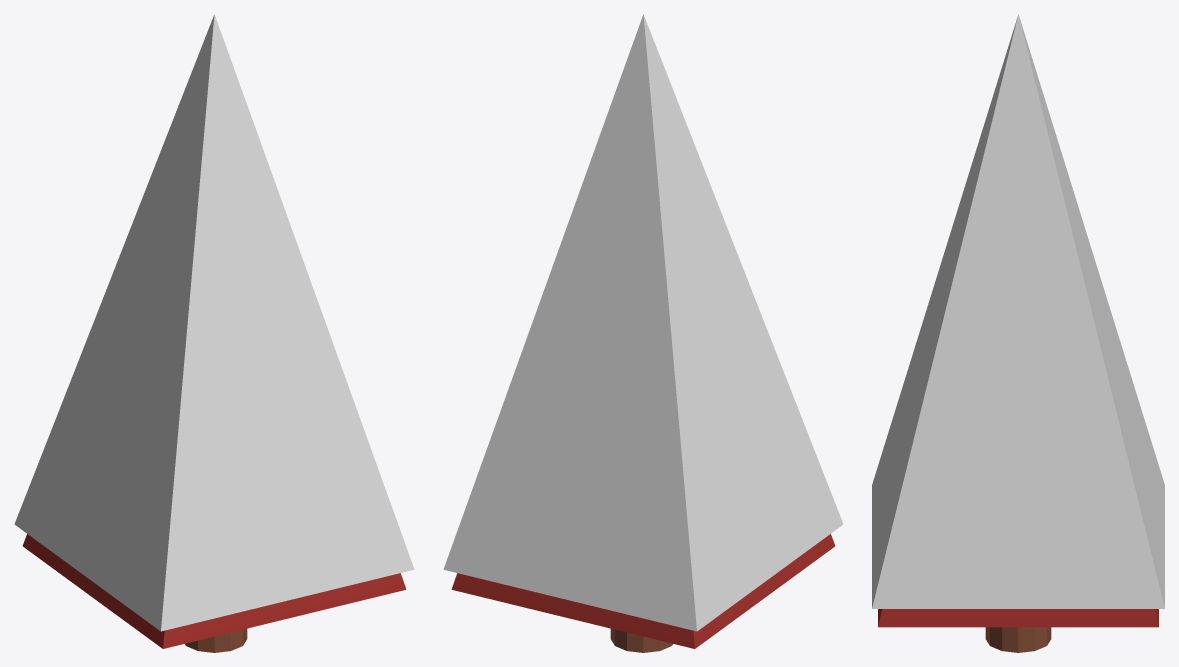
The model's file is Tree_36_winter_gradient_red_pal.fbx.
The picture shows the model from 3 angles, left to right: view 1: azimuth 30°, elevation 25°; view 2: azimuth 150°, elevation 25°; view 3: azimuth 270°, elevation 25°; orthographic projection.
Visible parts, largest first — view 1: Tree_36_winter_gradient_red_pal; view 2: Tree_36_winter_gradient_red_pal; view 3: Tree_36_winter_gradient_red_pal.
Part boxes in pixels (box(x1,y1,x2,y2)): Tree_36_winter_gradient_red_pal: box(14, 14, 414, 652); Tree_36_winter_gradient_red_pal: box(443, 14, 843, 652); Tree_36_winter_gradient_red_pal: box(872, 14, 1164, 652).
Size of the model in its own units: 71.97 by 169 by 71.97.
